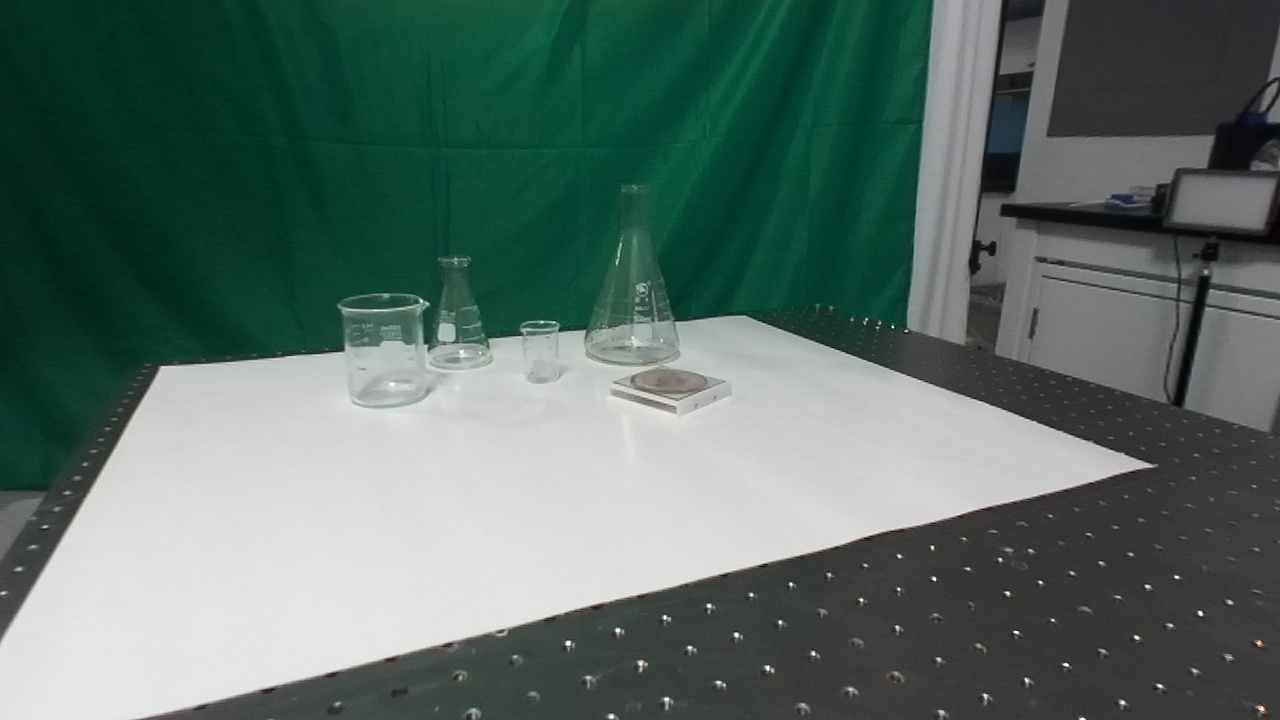glass: (581, 179, 683, 368), (336, 290, 432, 412), (425, 250, 495, 374), (519, 317, 563, 387)
plate: (607, 364, 733, 420)
